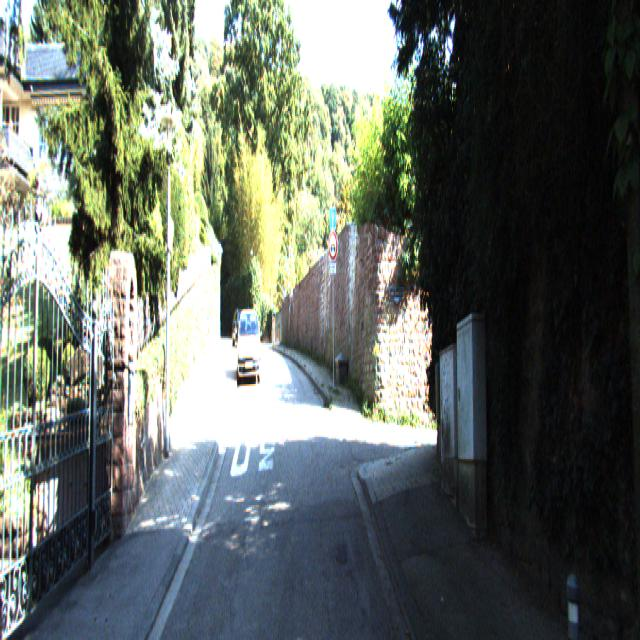Car: (237, 306, 260, 388), (231, 310, 251, 356)
